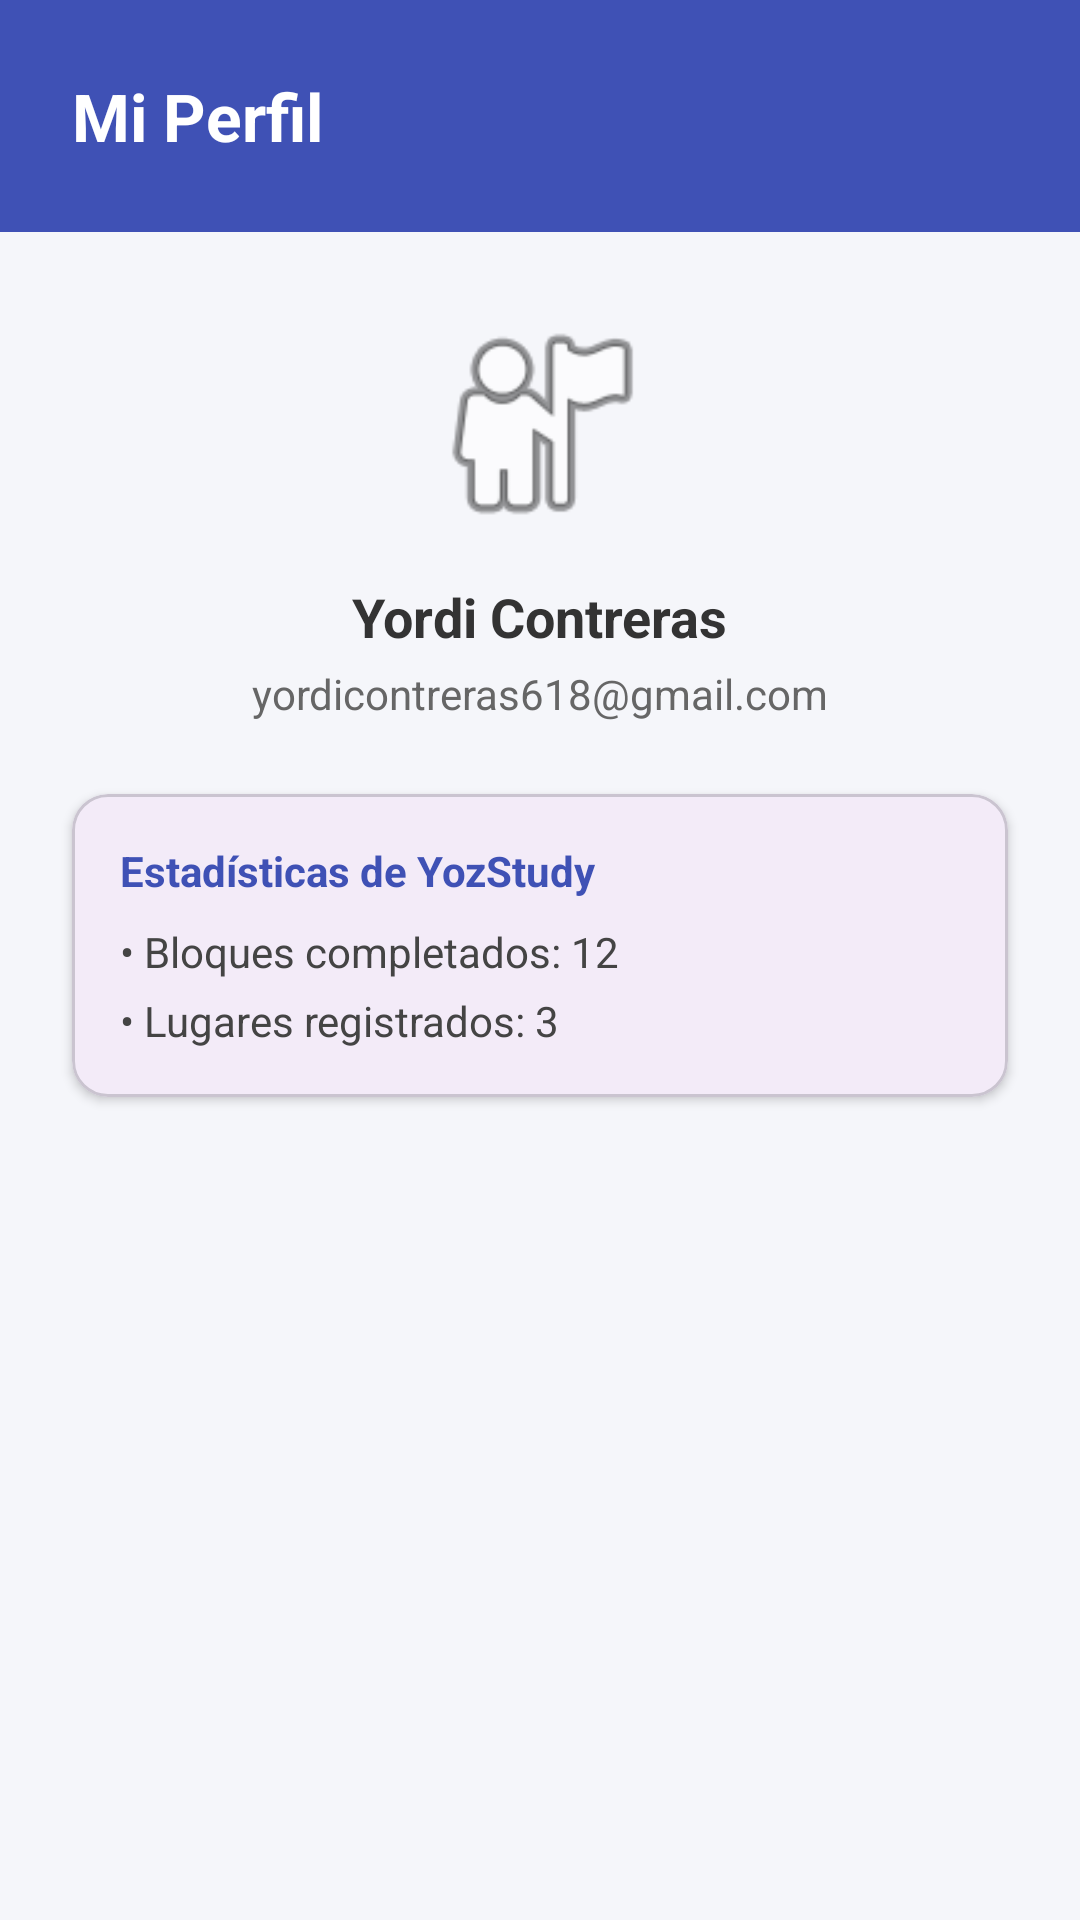

Icons on this 1080w x 1920h Android screen, each with its box as (x1, y1, x2, y2):
myplaces: (452, 334, 633, 514)
